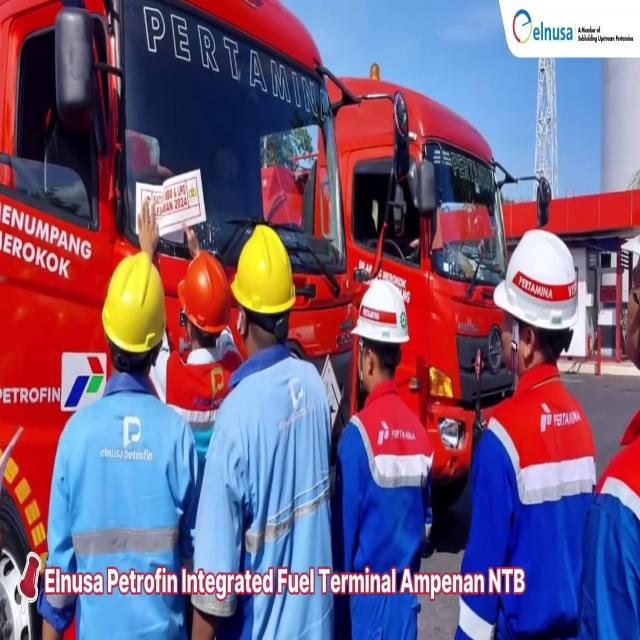Hardhat: (492, 231, 580, 329), (232, 228, 298, 316), (100, 260, 160, 352), (177, 250, 230, 334), (352, 281, 408, 337), (620, 229, 640, 258)
No Glove: (190, 602, 213, 640), (139, 204, 156, 255), (183, 224, 206, 258), (39, 609, 62, 639)
Overall Suit: (456, 364, 595, 640), (331, 384, 431, 640), (582, 402, 640, 640)
Strapped: (502, 315, 511, 368), (354, 337, 362, 376)
